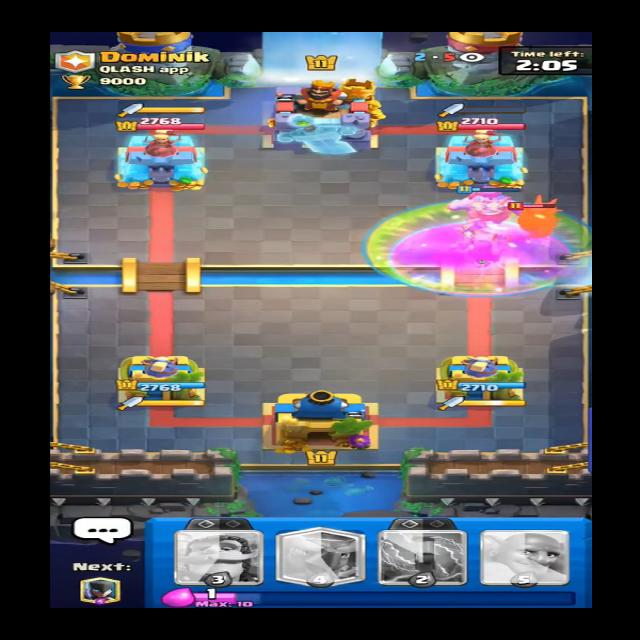Pekka: (488, 193, 578, 246)
